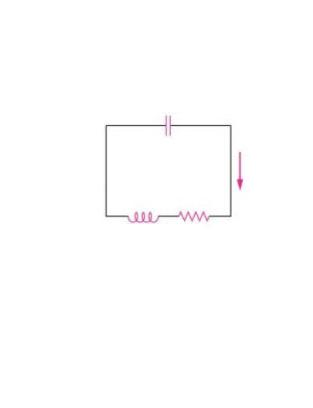resistor: (170, 203, 215, 226)
